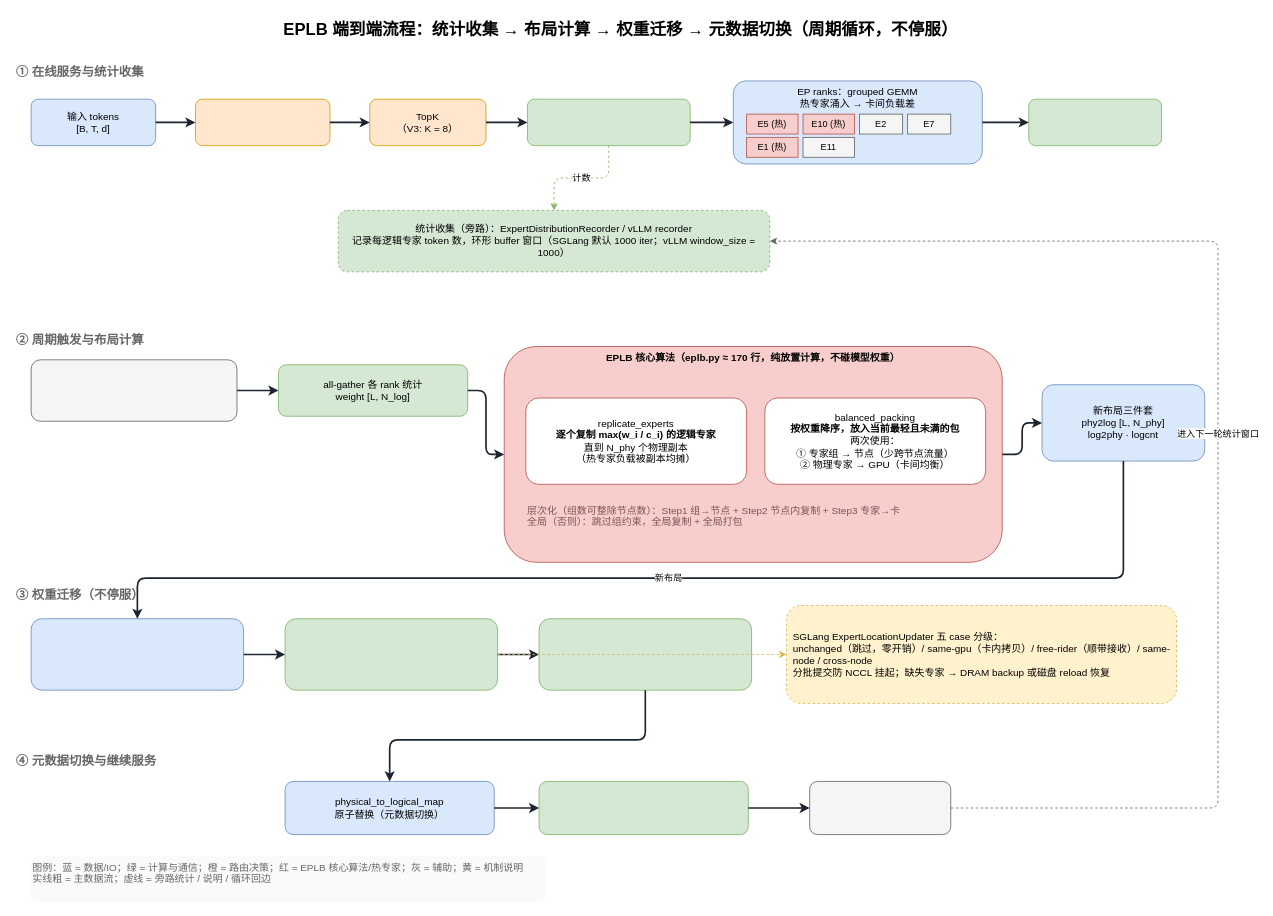
Some shapes in this 1273 by 916 pixel diagram are drawn without their labels. Here are the shapes that lost their labels. From the top down, the centre of each, then its label:
At point 262,122: "Router softmax(W_r · z)".
At point 608,122: "DeepEP dispatch all-to-all（IB + NVLink）".
At point 1095,122: "DeepEP combine all-to-all".
At point 133,390: "周期触发 V3 ≈ 每 10 min；SGLang 每 1000 iter vLLM step_interval = 3000".
At point 137,654: "新旧布局 diff vLLM preserve_intragpu_slots： 留在同卡的专家保原槽位，少搬权重".
At point 391,654: "批量 P2P isend / irecv 按逻辑专家去重发送 同节点源优先（省 IB）".
At point 645,654: "临时缓冲双阶段写 recv → temp buffer → 权重槽位 推理读旧权重不受阻".
At point 643,808: "dispatch 按新映射路由 冗余副本分流 token".
At point 880,808: "继续服务".
